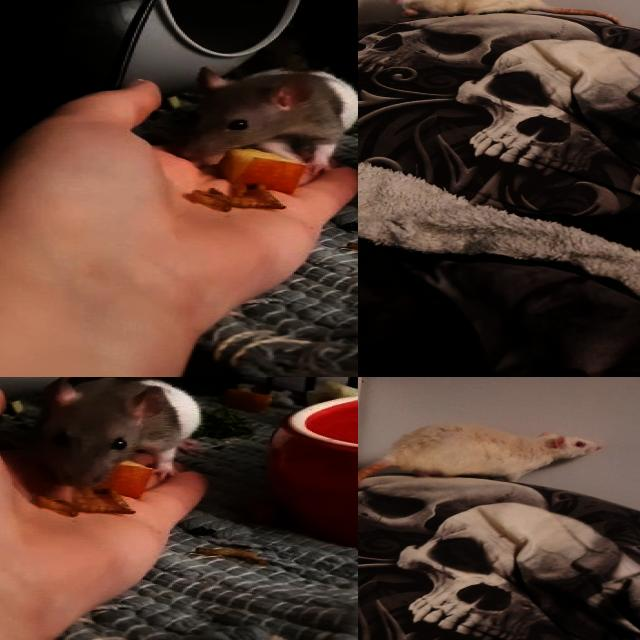rat: (171, 64, 358, 178), (31, 377, 201, 491), (377, 424, 599, 478), (383, 0, 542, 21)
